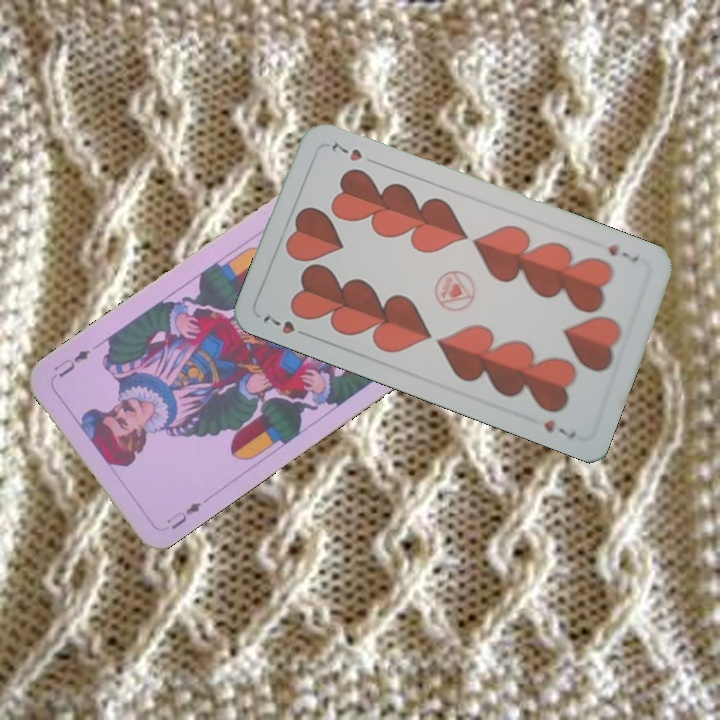EU: (162, 498, 204, 532)
H7: (258, 310, 297, 337), (604, 240, 641, 265)
